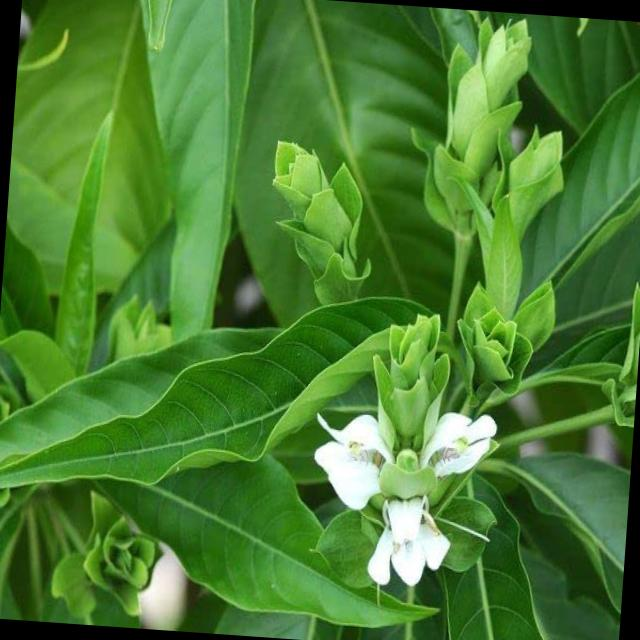Malabar Nut: (282, 288, 536, 604)
